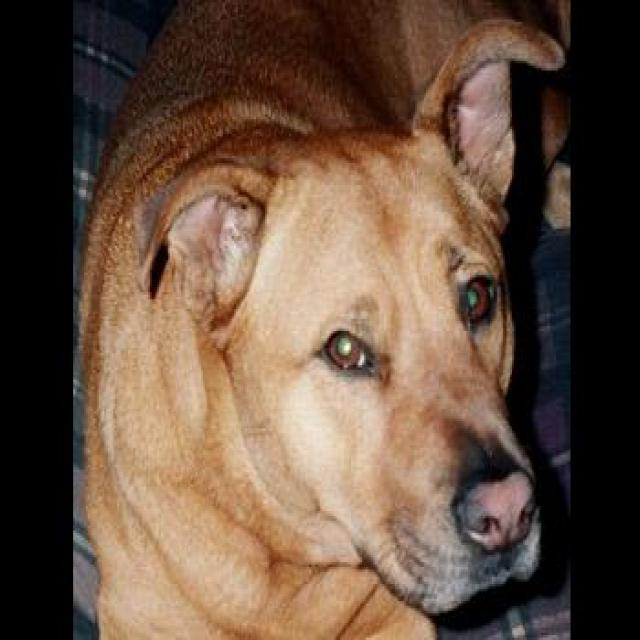rhodesian_ridgeback: (77, 0, 567, 635)
